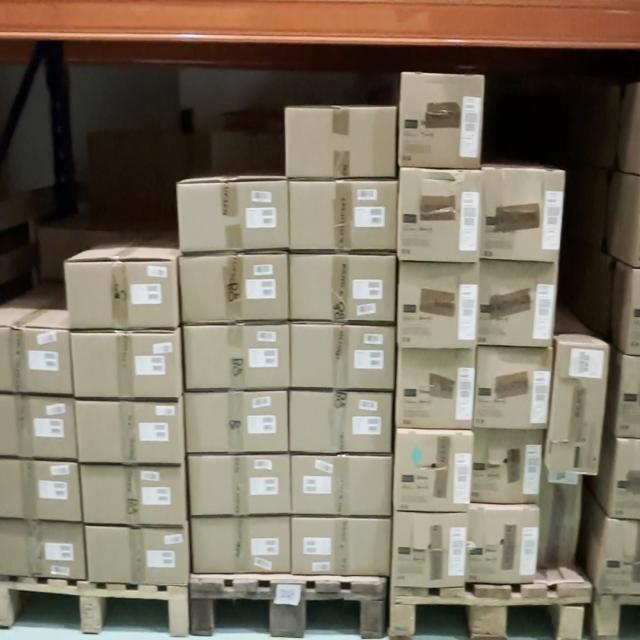box: (480, 166, 564, 263), (399, 74, 484, 168), (399, 168, 483, 260), (551, 348, 608, 474), (64, 264, 177, 326), (286, 110, 394, 173), (290, 184, 396, 246), (180, 186, 286, 248), (180, 256, 287, 316), (71, 335, 178, 395), (75, 403, 182, 463), (291, 258, 395, 319), (478, 264, 558, 343), (395, 433, 474, 511), (401, 265, 477, 346), (397, 350, 474, 429), (186, 327, 288, 386), (475, 348, 550, 428), (86, 526, 188, 584), (292, 328, 393, 386), (291, 392, 390, 451), (80, 467, 184, 523), (190, 456, 288, 514), (393, 513, 468, 587), (186, 392, 287, 445), (292, 458, 391, 512), (468, 507, 537, 581), (472, 430, 541, 503), (191, 520, 289, 569), (292, 521, 388, 571), (182, 189, 183, 190)
